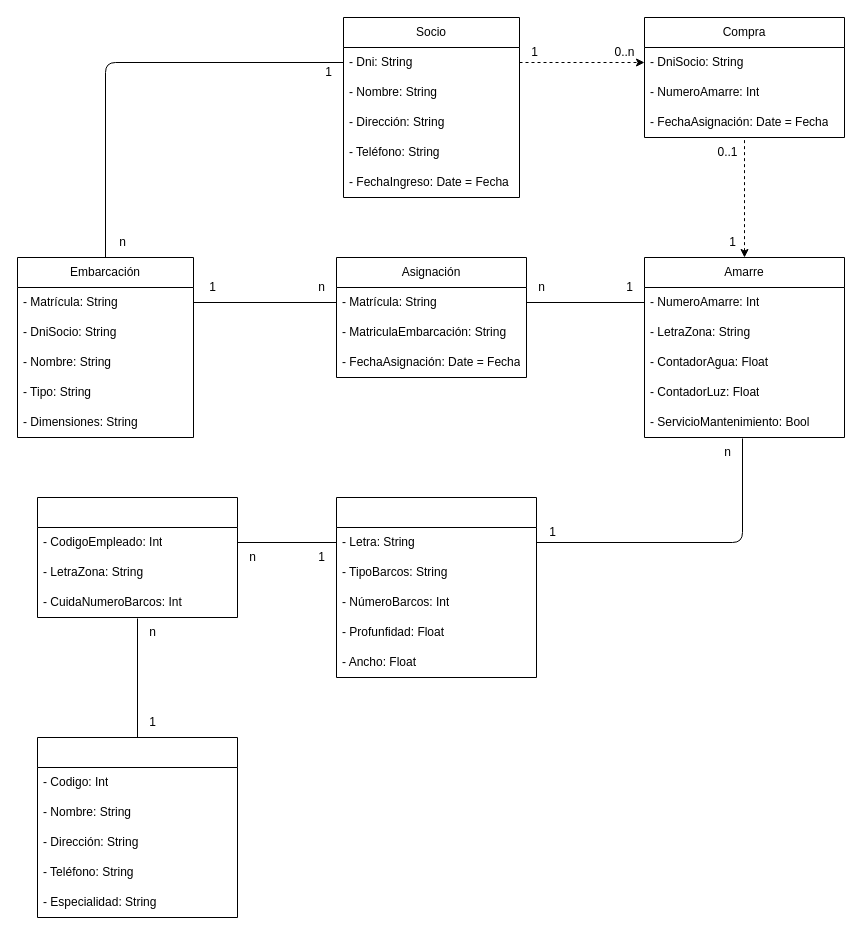
Some shapes in this 862 by 935 pixel diagram are drawn without their labels. The box of each missing label's shape, as (x1, y1, x2, y2) in pixels:
Empleado: (36, 736, 238, 918)
Empleados_Zona: (36, 496, 238, 618)
Zona: (336, 496, 536, 678)
